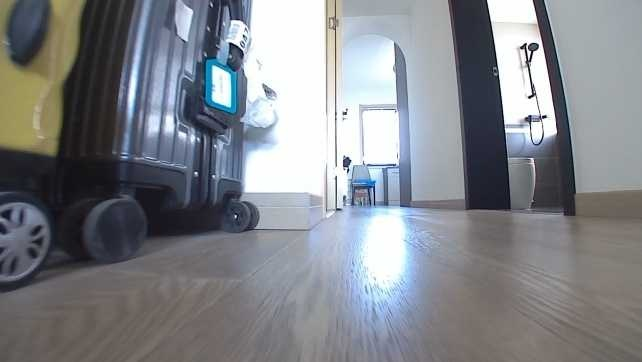toilet: (506, 155, 535, 208)
